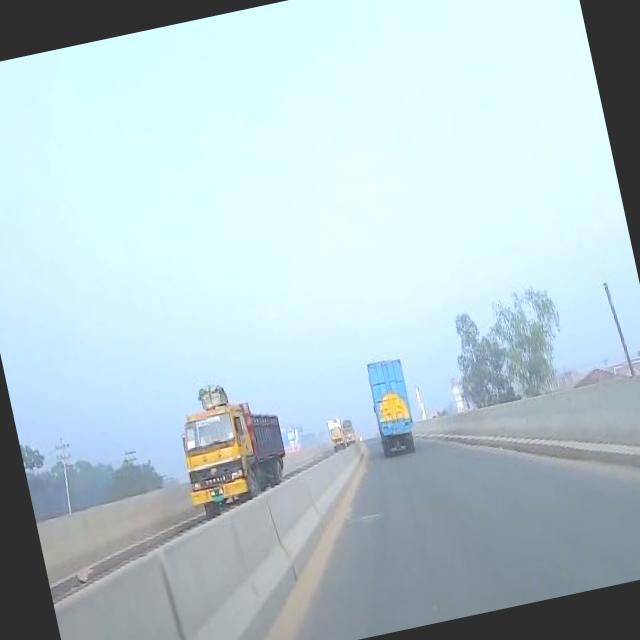truck: (168, 366, 296, 514), (364, 353, 419, 453), (326, 410, 346, 444), (342, 414, 356, 438)
